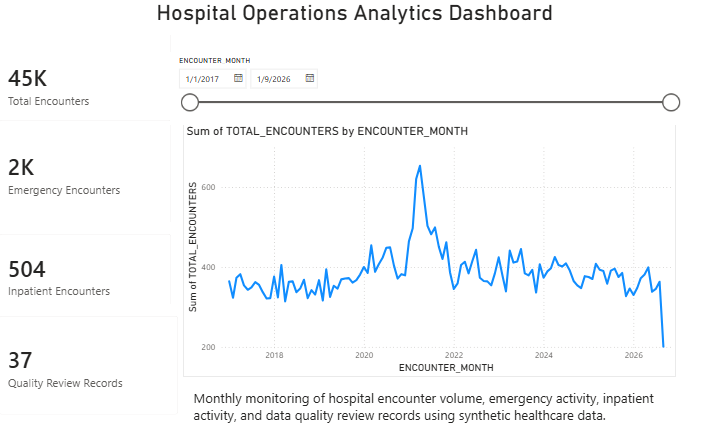

Layout of this report page (visuals, bound fields, positions):
{"tool":"powerbi","page":{"name":"Page 1","canvas":[1280,720],"ordinal":0},"visuals":[{"type":"cardVisual","fields":{"Data":["Sum(monthly_operational_kpis.TOTAL_ENCOUNTERS)"]},"box":[10,0,280,280],"z":0},{"type":"cardVisual","fields":{"Data":["Sum(monthly_operational_kpis.EMERGENCY_ENCOUNTERS)"]},"box":[10,290,280,280],"z":1},{"type":"cardVisual","fields":{"Data":["Sum(monthly_operational_kpis.INPATIENT_ENCOUNTERS)"]},"box":[10,570,280,150],"z":2},{"type":"cardVisual","fields":{"Data":["Sum(monthly_operational_kpis.QUALITY_REVIEW_RECORDS)"]},"box":[300,0,280,280],"z":3},{"type":"lineChart","fields":{"Y":["Sum(monthly_operational_kpis.TOTAL_ENCOUNTERS)"],"Category":["monthly_operational_kpis.ENCOUNTER_MONTH"]},"box":[300,290,280,280],"z":4},{"type":"textbox","title":"Hospital Operations Analytics Dashboard","box":[10,15,580,75],"z":5},{"type":"textbox","box":[300,570,280,150],"z":6},{"type":"slicer","fields":{"Values":["monthly_operational_kpis.ENCOUNTER_MONTH"]},"box":[580,290,280,280],"z":7}]}

Visuals, with their boxes on the page's 1280x720 design canvas (x1, y1, x2, y2). These are canvas units, not pixel positions in the 720x436 screenshot, which may show the page scaled, cropped or inside an application window:
cardVisual - Sum(monthly_operational_kpis.TOTAL_ENCOUNTERS): (x1=10, y1=0, x2=290, y2=280)
cardVisual - Sum(monthly_operational_kpis.EMERGENCY_ENCOUNTERS): (x1=10, y1=290, x2=290, y2=570)
cardVisual - Sum(monthly_operational_kpis.INPATIENT_ENCOUNTERS): (x1=10, y1=570, x2=290, y2=720)
cardVisual - Sum(monthly_operational_kpis.QUALITY_REVIEW_RECORDS): (x1=300, y1=0, x2=580, y2=280)
lineChart - Sum(monthly_operational_kpis.TOTAL_ENCOUNTERS) x monthly_operational_kpis.ENCOUNTER_MONTH: (x1=300, y1=290, x2=580, y2=570)
"Hospital Operations Analytics Dashboard" textbox: (x1=10, y1=15, x2=590, y2=90)
textbox: (x1=300, y1=570, x2=580, y2=720)
slicer - monthly_operational_kpis.ENCOUNTER_MONTH: (x1=580, y1=290, x2=860, y2=570)
